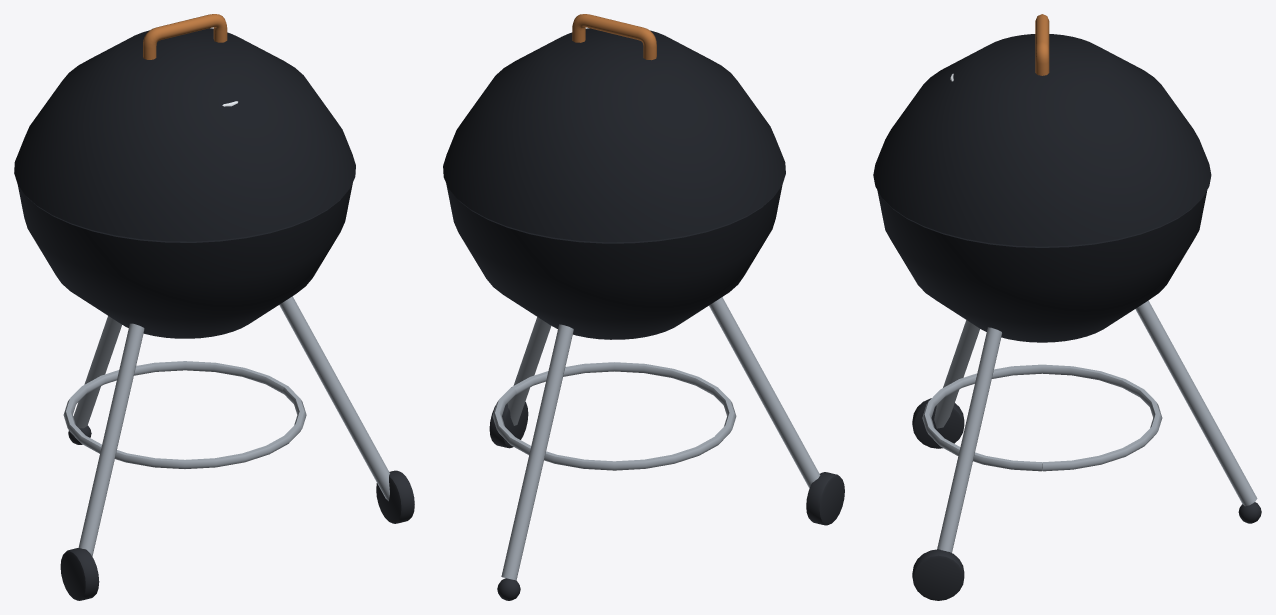
Rendered from churrasqueira_bola_preta.glb.
3 views of the same model, side by side, from view 1: azimuth 30°, elevation 25°; view 2: azimuth 150°, elevation 25°; view 3: azimuth 270°, elevation 25° (orthographic).
Visible parts, largest first — view 1: tampa, churrasqueira_bola_preta; view 2: tampa, churrasqueira_bola_preta; view 3: tampa, churrasqueira_bola_preta.
Part boxes in pixels (x1=…): tampa: x1=14, y1=14, x2=355, y2=241; churrasqueira_bola_preta: x1=18, y1=183, x2=414, y2=600; tampa: x1=443, y1=14, x2=785, y2=242; churrasqueira_bola_preta: x1=446, y1=183, x2=844, y2=600; tampa: x1=873, y1=14, x2=1211, y2=246; churrasqueira_bola_preta: x1=877, y1=190, x2=1261, y2=600.
Bounding box in the file's own units: 0.6535 × 0.944 × 0.6729.
1 material, 1 textured.
